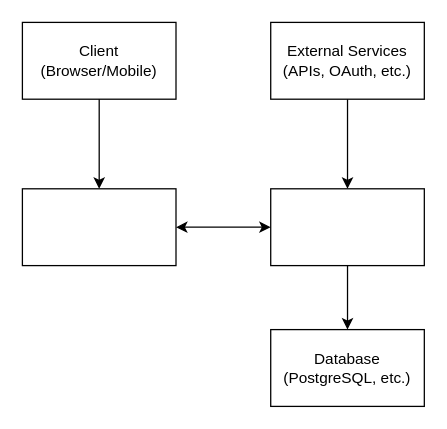
The diagram is 447 pixels wide and 429 high, and some of its shapes have lost their labels. The shapes that lost their labels are listed below. From the top down, each one's centre as x and y in pixels, then its label:
the point at 98,227: Frontend (React, Vue, etc.)
the point at 346,227: Backend (Nodejs, Django, FastAPI etc.)
